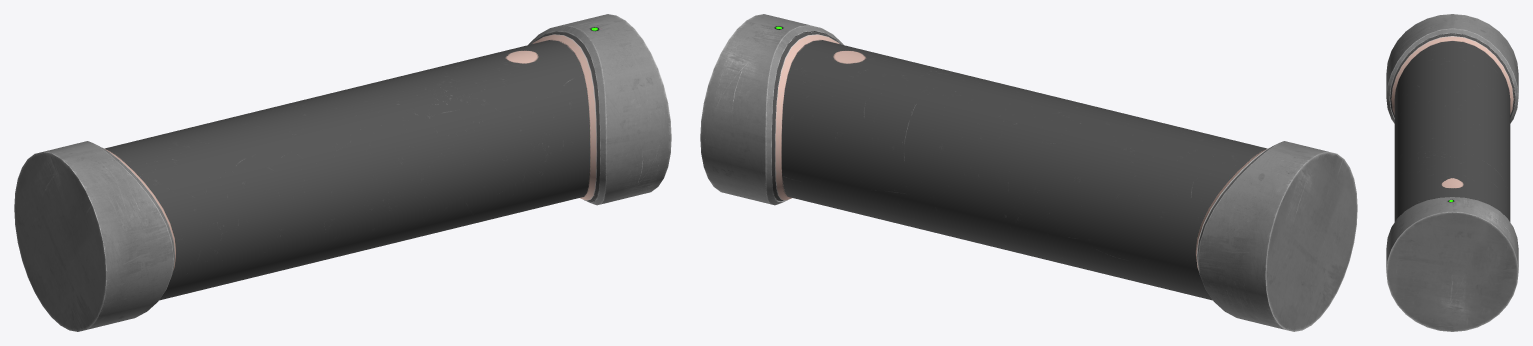
The model's file is grip_5_c_c.glb.
3 renders of one model, left to right at view 1: azimuth 30°, elevation 25°; view 2: azimuth 150°, elevation 25°; view 3: azimuth 270°, elevation 25°, orthographic. The views are drawn at different scales.
Parts seen in each view (by area): view 1: grip_5_c_c_lod0; view 2: grip_5_c_c_lod0; view 3: grip_5_c_c_lod0.
Part boxes in pixels (x1=…): grip_5_c_c_lod0: x1=14, y1=14, x2=671, y2=331; grip_5_c_c_lod0: x1=700, y1=14, x2=1357, y2=331; grip_5_c_c_lod0: x1=1386, y1=14, x2=1518, y2=331.
Size of what is drawn, in the model's own units: 0.1054 by 0.0298 by 0.0298.
1 material, 1 textured.
